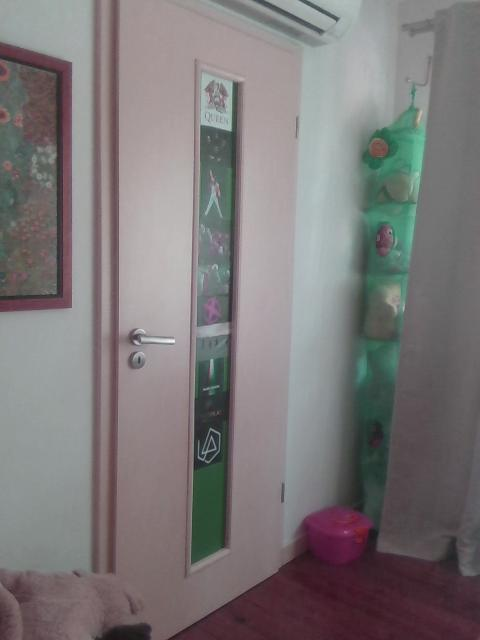closed_door: (91, 2, 299, 639)
